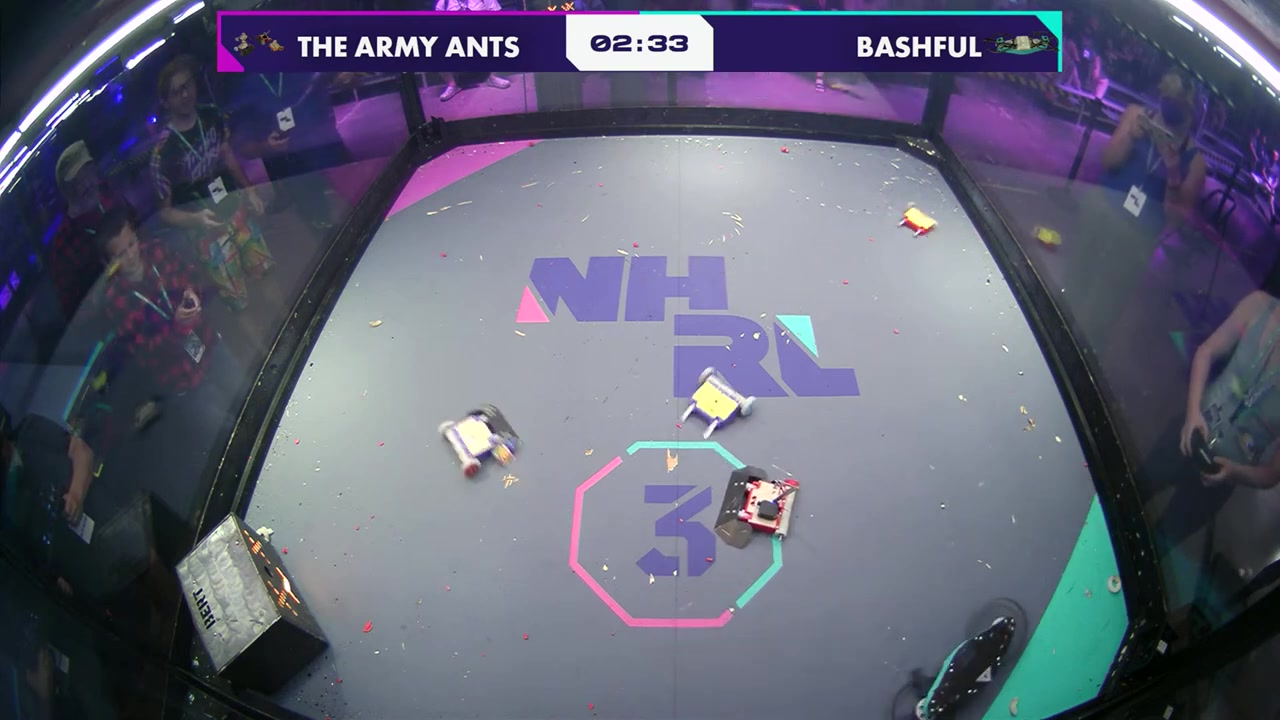combatbot: (901, 597, 1029, 717), (713, 465, 802, 550), (437, 405, 522, 482), (672, 365, 755, 442)
housebot: (174, 514, 329, 692)
minibot: (896, 205, 938, 238)
